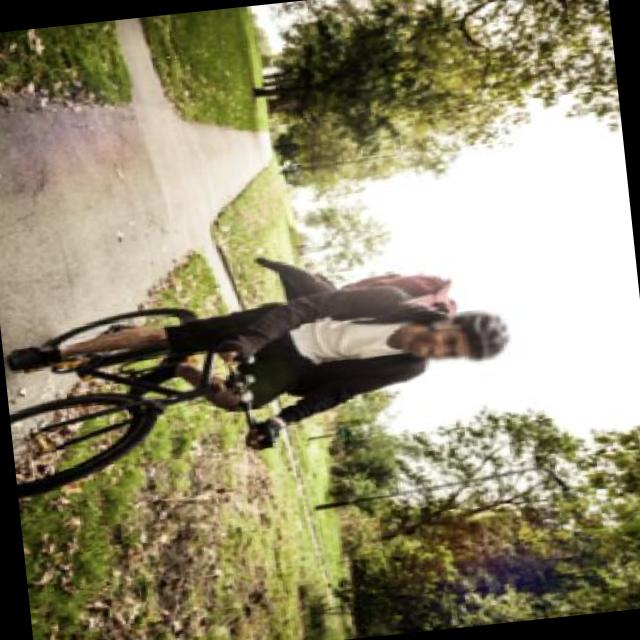With Helmet: (396, 306, 520, 372)
